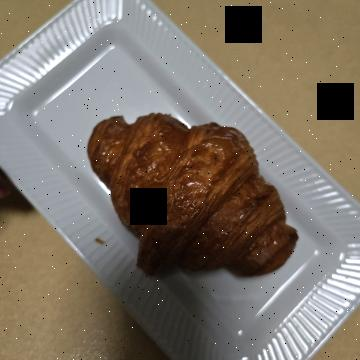croissant: (102, 60, 291, 283)
